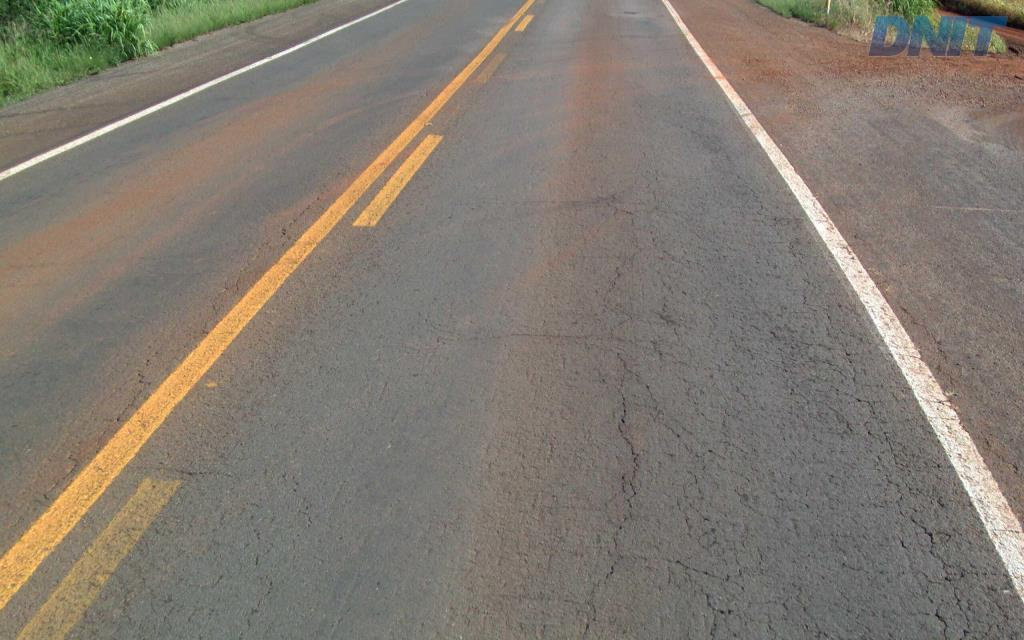crack: (905, 514, 979, 609), (863, 420, 920, 476), (616, 388, 641, 508), (901, 476, 948, 513)
